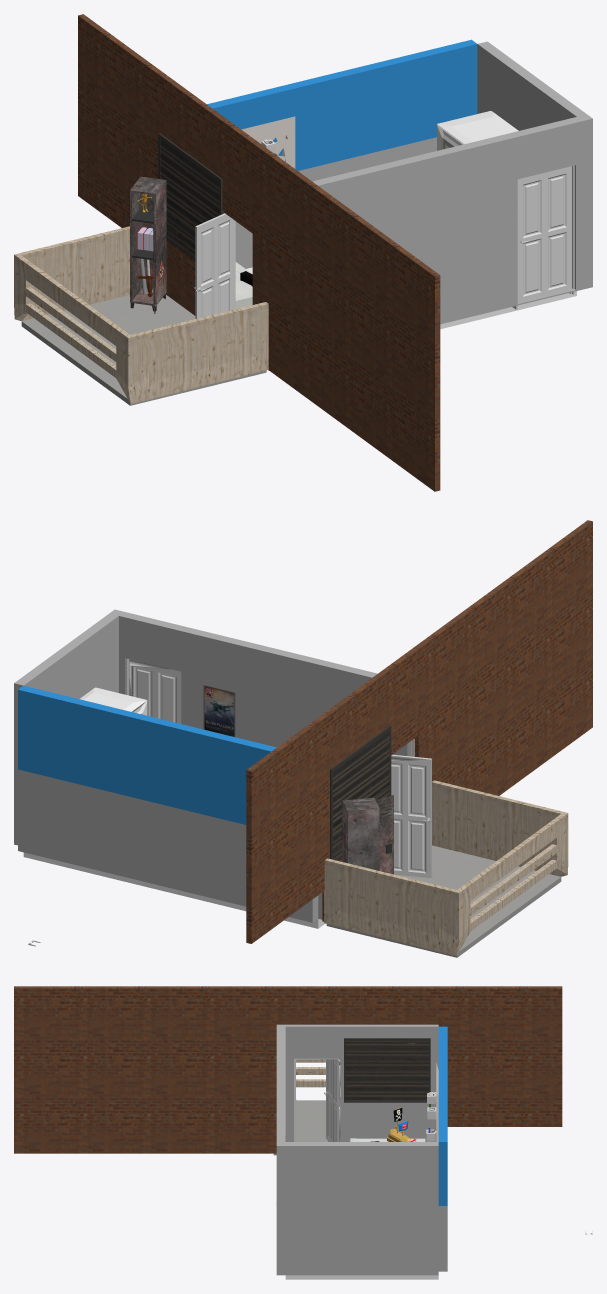
File: Kamer_Boersma.glb
The picture shows the model from 3 angles, top to bottom: view 1: azimuth 30°, elevation 25°; view 2: azimuth 150°, elevation 25°; view 3: azimuth 270°, elevation 25°; orthographic projection. The views are drawn at different scales.
Visible parts, largest first — view 1: buitenmuur, huis omtrek, balkon ondervlak, Omtrek hoge muur, Door.003, balkon ondervlak.001, Rol Luik, Door.001, Locker_Body, Omtrek Laage muur, buitenmuur.001, omtrek kast (+2 smaller); view 2: buitenmuur, huis omtrek, balkon ondervlak, Omtrek hoge muur, Omtrek Laage muur, Door.001, balkon ondervlak.001, Rol Luik, buitenmuur.001, Locker_Body, Door.003, grond (+3 smaller); view 3: buitenmuur.001, huis omtrek, Rol Luik, Omtrek hoge muur, buitenmuur, balkon ondervlak.001, Door.001, grond, Omtrek Laage muur, balkon ondervlak, Cube, schip bakje.001.
Boxes of the visible parts, box(x1,y1,x2,y2) form: buitenmuur: box(78, 14, 440, 491); huis omtrek: box(312, 41, 592, 324); balkon ondervlak: box(14, 226, 268, 404); Omtrek hoge muur: box(207, 39, 477, 170); Door.003: box(518, 166, 571, 302); balkon ondervlak.001: box(21, 295, 266, 405); Rol Luik: box(160, 138, 219, 257); Door.001: box(195, 213, 235, 318); Locker_Body: box(130, 176, 166, 305); Omtrek Laage muur: box(235, 137, 436, 268); buitenmuur.001: box(78, 19, 440, 490); omtrek kast: box(437, 111, 518, 150); buitenmuur: box(246, 520, 592, 943); huis omtrek: box(14, 609, 407, 919); balkon ondervlak: box(324, 780, 568, 956); Omtrek hoge muur: box(18, 685, 276, 824); Omtrek Laage muur: box(18, 769, 318, 922); Door.001: box(391, 754, 431, 878); balkon ondervlak.001: box(326, 845, 561, 957); Rol Luik: box(333, 730, 389, 859); buitenmuur.001: box(246, 520, 592, 943); Locker_Body: box(342, 797, 379, 870); Door.003: box(129, 659, 181, 723); grond: box(23, 852, 325, 928); buitenmuur.001: box(14, 986, 562, 1153); huis omtrek: box(276, 1024, 438, 1275); Rol Luik: box(345, 1039, 429, 1100); Omtrek hoge muur: box(438, 1026, 447, 1205); buitenmuur: box(14, 986, 562, 1148); balkon ondervlak.001: box(273, 1100, 328, 1155); Door.001: box(326, 1059, 340, 1141); grond: box(285, 1275, 438, 1279); Omtrek Laage muur: box(438, 1206, 447, 1271); balkon ondervlak: box(296, 1059, 325, 1087); Cube: box(287, 1058, 293, 1141); schip bakje.001: box(387, 1107, 416, 1141).
Bounding box in the file's own units: 7.87 × 3.63 × 10.94.
71 materials, 19 textured.
